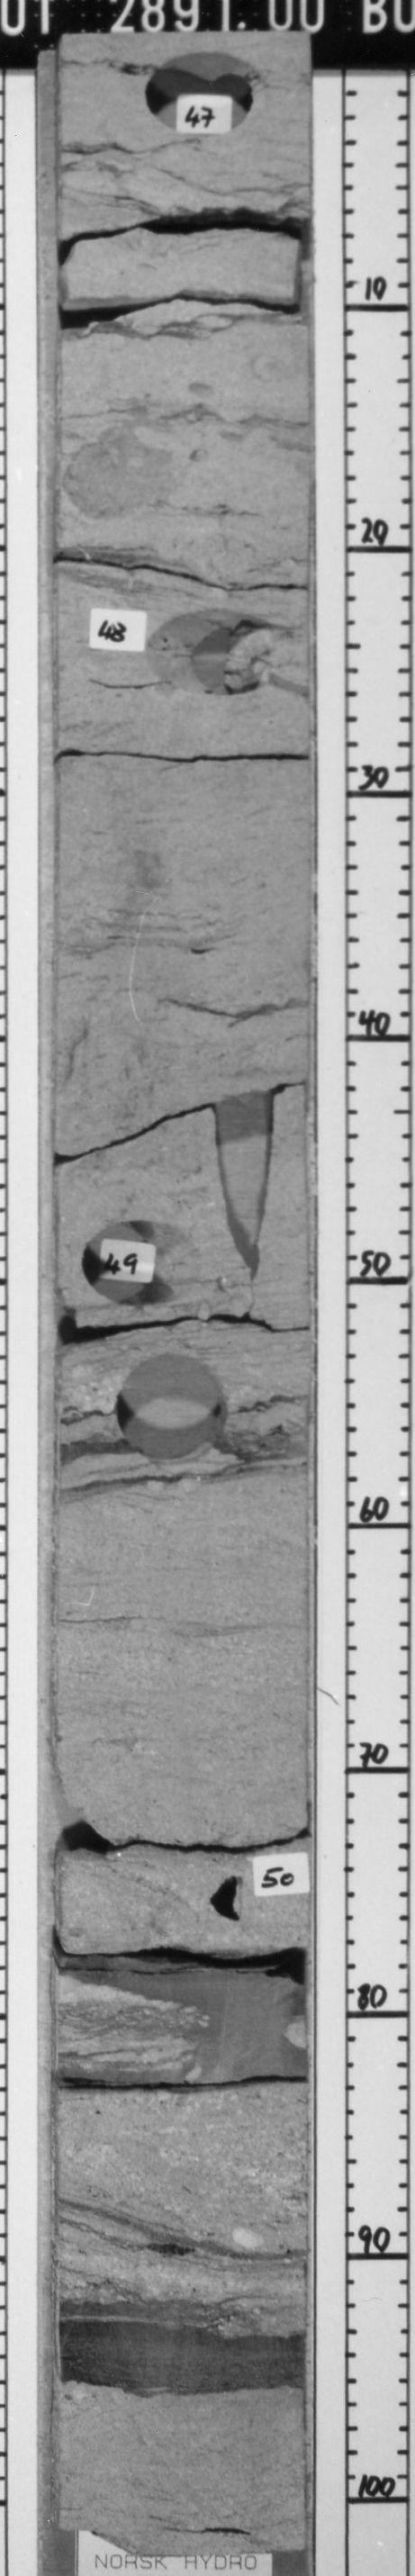hplug: (141, 601, 300, 710), (75, 1216, 208, 1318), (136, 44, 262, 143), (205, 1866, 259, 1929)
scal: (108, 1344, 235, 1469)
vplug: (202, 1083, 290, 1296)
